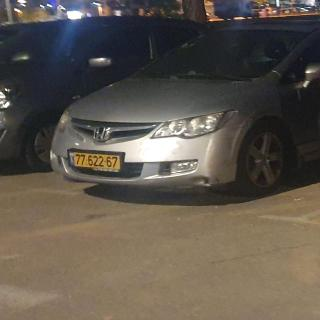LicensePlate: (73, 153, 120, 169)
